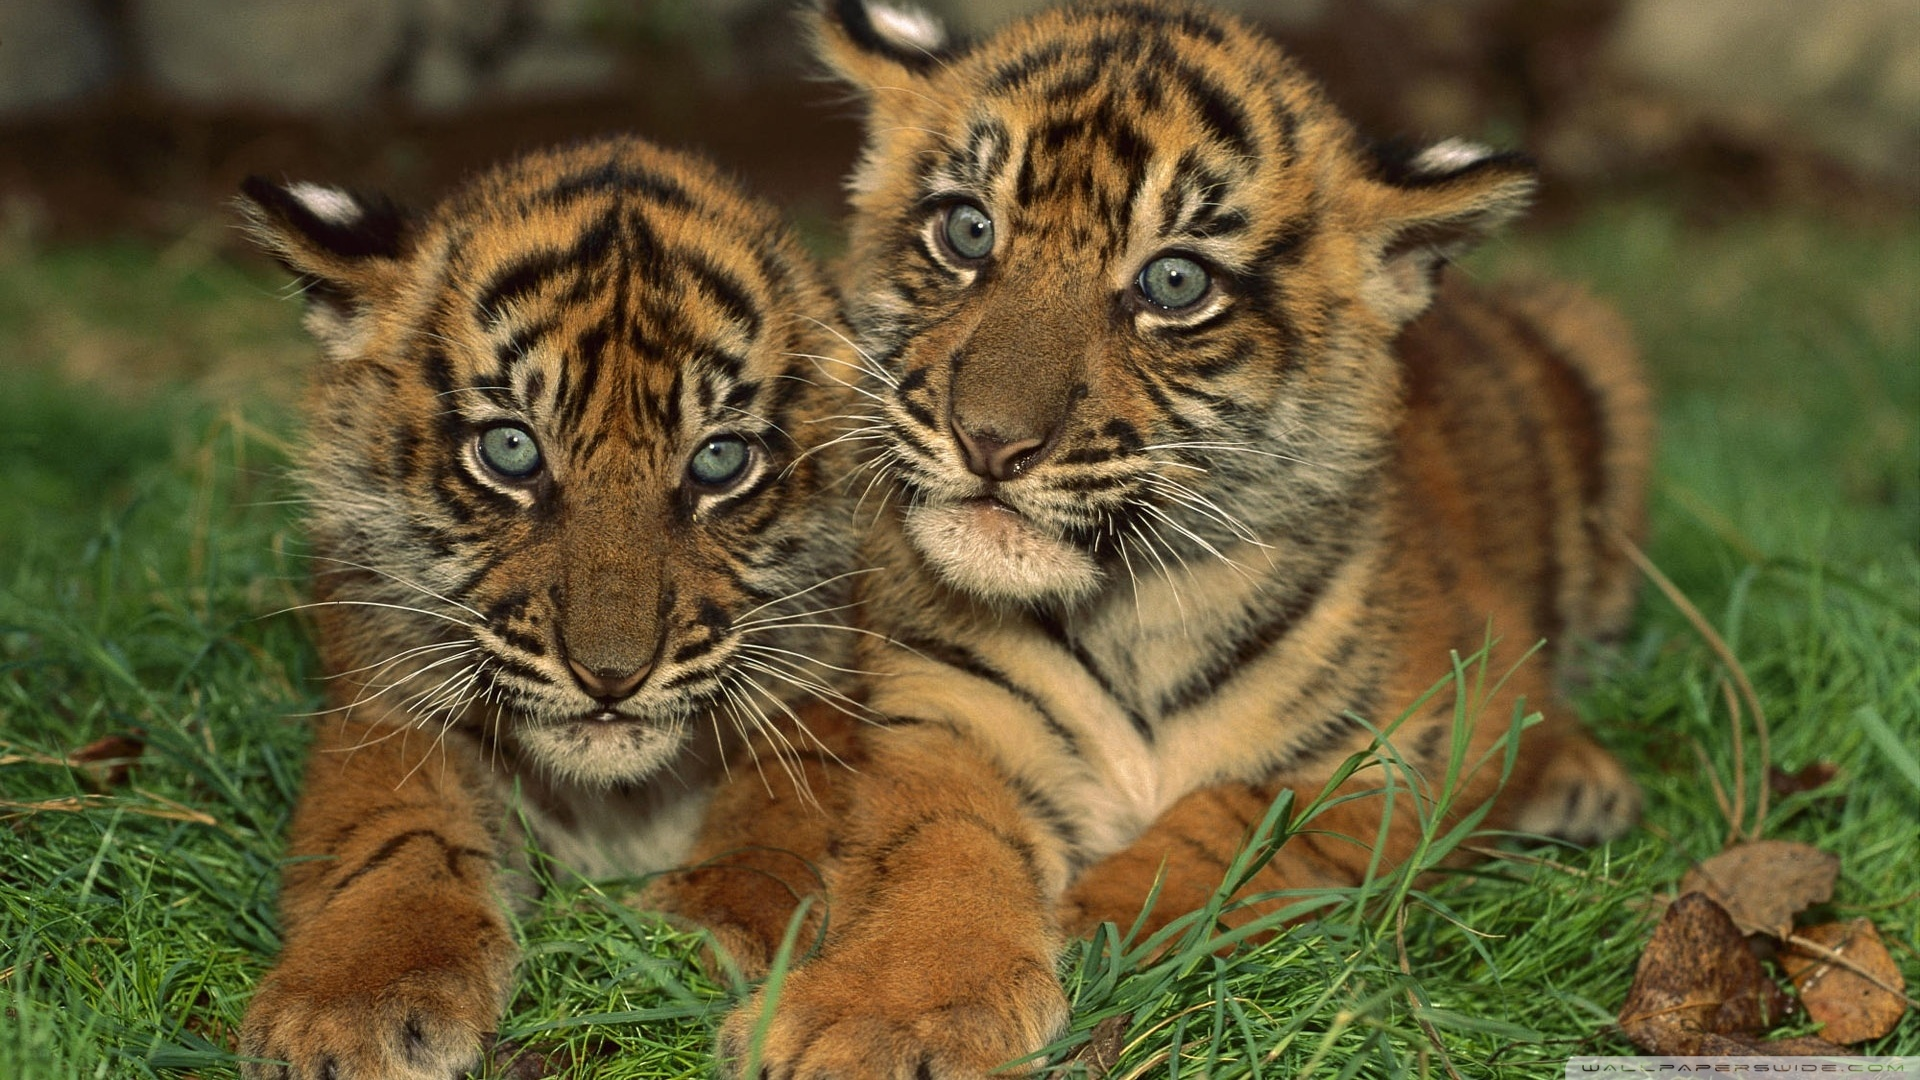tiger: (811, 36, 1753, 1058), (255, 135, 852, 1019)
